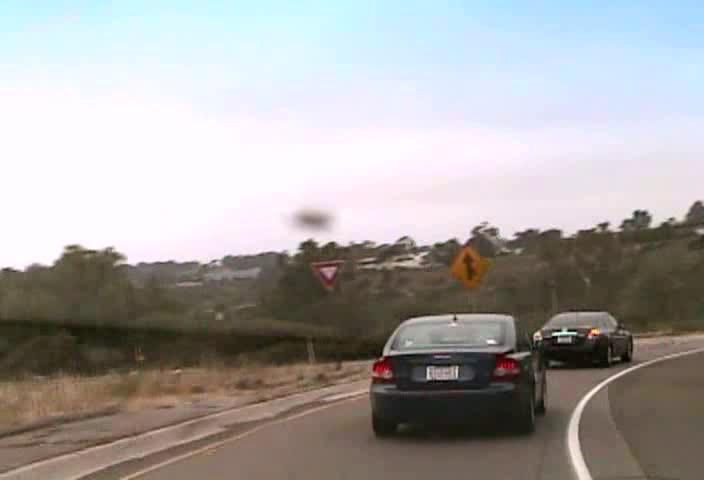yield: (309, 258, 345, 290)
